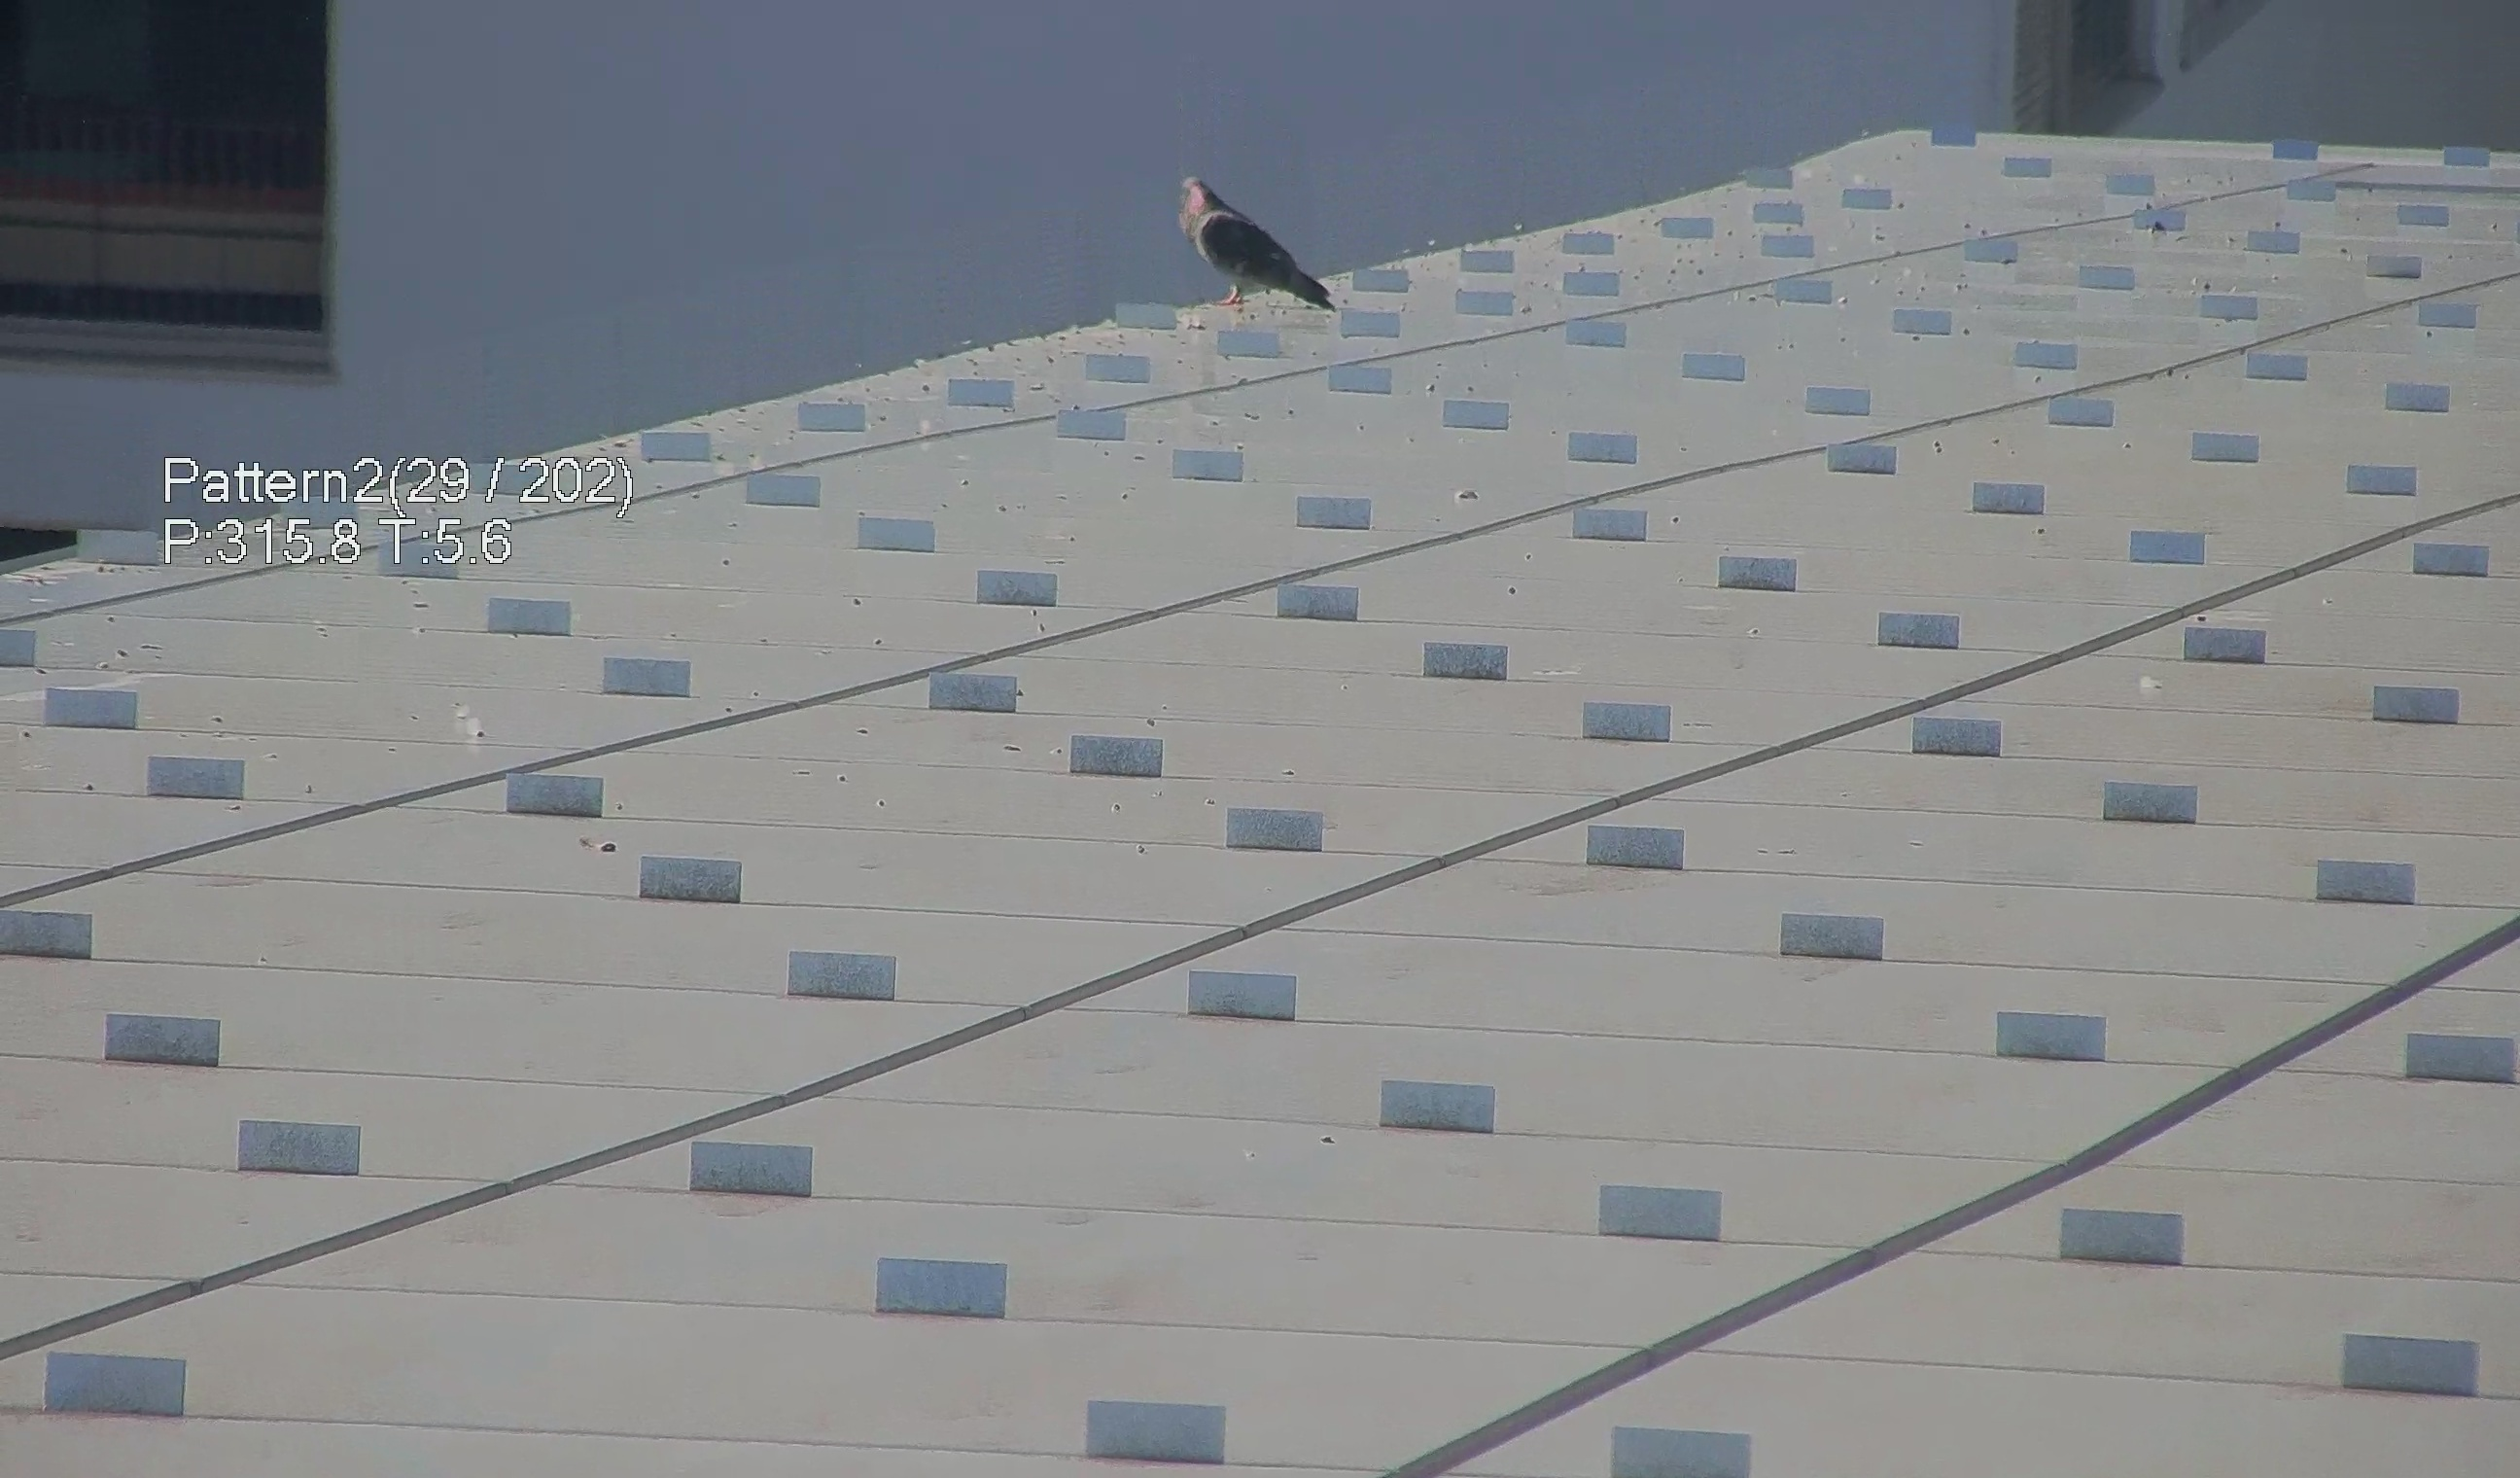Pigeon: (1166, 167, 1335, 318)
